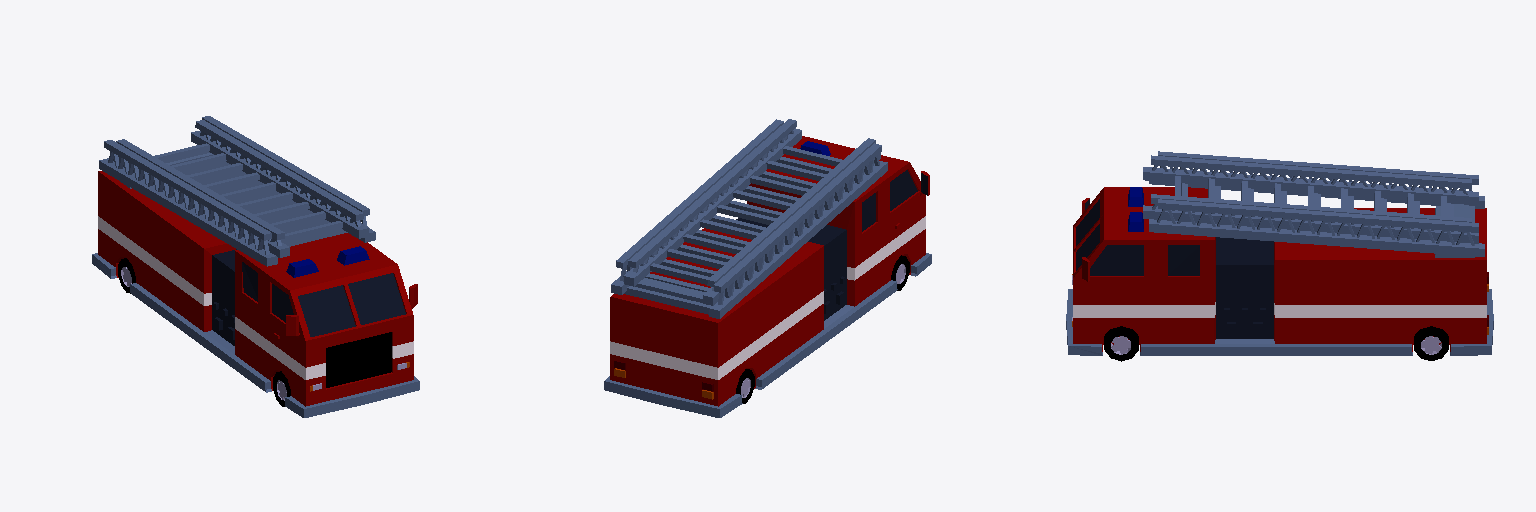
File: firetruck.obj
3 renders of one model, left to right at view 1: azimuth 30°, elevation 25°; view 2: azimuth 150°, elevation 25°; view 3: azimuth 270°, elevation 25°, orthographic.
Parts seen in each view (by area): view 1: Firetruck; view 2: Firetruck; view 3: Firetruck.
Part boxes in pixels (left/top/right/bottom): Firetruck: left=92, top=116, right=419, bottom=417; Firetruck: left=604, top=119, right=931, bottom=417; Firetruck: left=1066, top=151, right=1493, bottom=361.
Size of the model in its own units: 3.41 by 3.93 by 9.6.